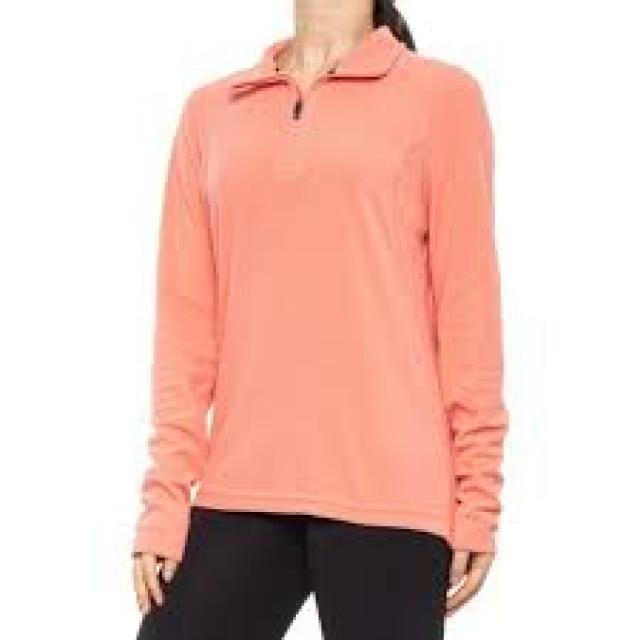plain: (122, 33, 508, 554)
